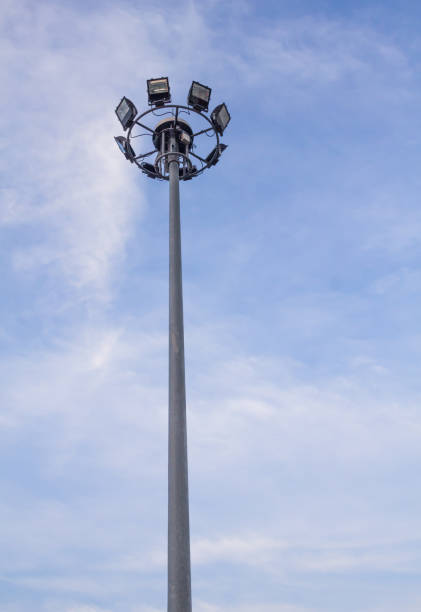light_pole: (163, 166, 193, 612)
